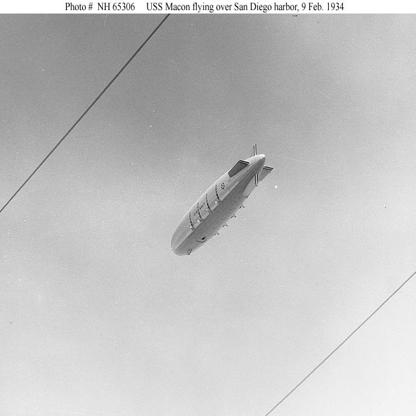Airship: (170, 144, 273, 262)
